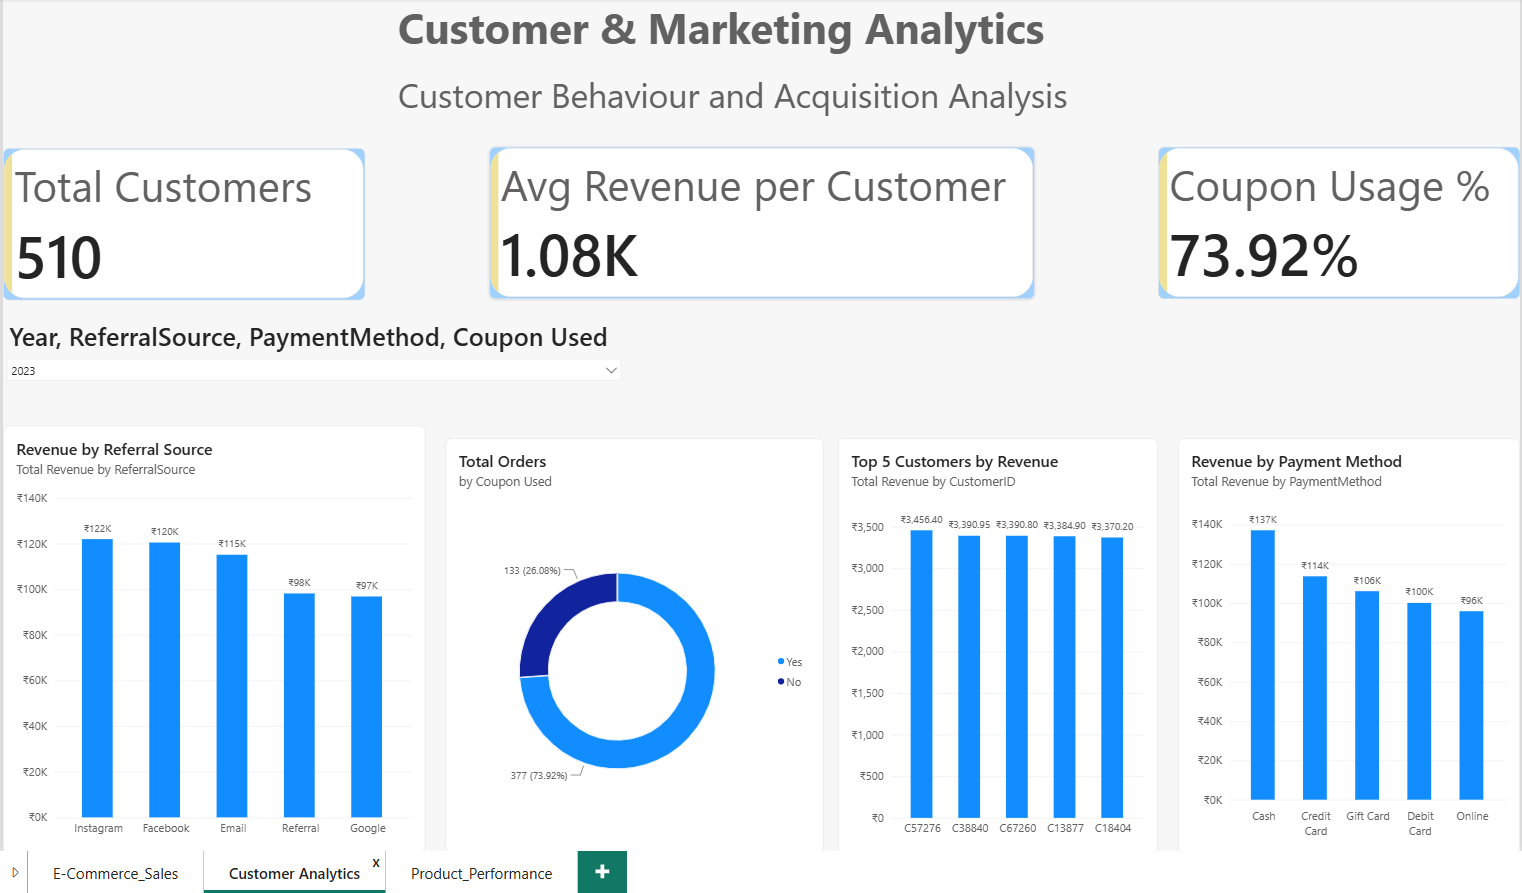

This screenshot's page, from the dashboard's own definition file:
{"tool":"powerbi","page":{"name":"Customer Analytics","canvas":[1920,1080],"ordinal":1},"visuals":[{"type":"textbox","box":[499.9,0,865.7,93.1],"z":0},{"type":"textbox","box":[499.9,93.1,865.7,95.2],"z":1000},{"type":"cardVisual","fields":{"Data":["Cleaned_dataset.Total Customers"]},"box":[0,190.4,458.8,192.6],"z":2000},{"type":"cardVisual","fields":{"Data":["Cleaned_dataset.Avg Revenue per Customer"]},"box":[614.6,188.3,690.4,192.6],"z":3000},{"type":"clusteredColumnChart","title":"Revenue by Referral Source","fields":{"Category":["Cleaned_dataset.ReferralSource"],"Y":["Cleaned_dataset.Total Revenue"]},"box":[0,541,534.5,541],"z":4000},{"type":"donutChart","fields":{"Category":["Cleaned_dataset.Coupon Used"],"Y":["Cleaned_dataset.Total Orders"]},"box":[560.5,556.2,478.3,525.9],"z":5000},{"type":"columnChart","title":"Top 5 Customers by Revenue","fields":{"Category":["Cleaned_dataset.CustomerID"],"Y":["Cleaned_dataset.Total Revenue"]},"box":[1056.1,556.2,404.7,525.9],"z":6000},{"type":"clusteredColumnChart","title":"Revenue by Payment Method","fields":{"Category":["Cleaned_dataset.PaymentMethod"],"Y":["Cleaned_dataset.Total Revenue"]},"box":[1486.8,556.2,432.8,525.9],"z":7000},{"type":"slicer","fields":{"Values":["Cleaned_dataset.Date.Variation.Date Hierarchy.Year","Cleaned_dataset.ReferralSource","Cleaned_dataset.PaymentMethod","Cleaned_dataset.Coupon Used"]},"box":[0,406.9,787.7,95.2],"z":8000},{"type":"cardVisual","fields":{"Data":["Cleaned_dataset.Coupon Usage %"]},"box":[1460.8,188.3,458.8,192.6],"z":9000}]}

Visuals, with their boxes on the page's 1920x1080 design canvas (x1, y1, x2, y2). These are canvas units, not pixel positions in the 1522x893 screenshot, which may show the page scaled, cropped or inside an application window:
textbox: [x1=500, y1=0, x2=1366, y2=93]
textbox: [x1=500, y1=93, x2=1366, y2=188]
cardVisual - Cleaned_dataset.Total Customers: [x1=0, y1=190, x2=459, y2=383]
cardVisual - Cleaned_dataset.Avg Revenue per Customer: [x1=615, y1=188, x2=1305, y2=381]
"Revenue by Referral Source" clusteredColumnChart: [x1=0, y1=541, x2=534, y2=1082]
donutChart - Cleaned_dataset.Coupon Used x Cleaned_dataset.Total Orders: [x1=560, y1=556, x2=1039, y2=1082]
"Top 5 Customers by Revenue" columnChart: [x1=1056, y1=556, x2=1461, y2=1082]
"Revenue by Payment Method" clusteredColumnChart: [x1=1487, y1=556, x2=1920, y2=1082]
slicer - Cleaned_dataset.Date.Variation.Date Hierarchy.Year x Cleaned_dataset.ReferralSource: [x1=0, y1=407, x2=788, y2=502]
cardVisual - Cleaned_dataset.Coupon Usage %: [x1=1461, y1=188, x2=1920, y2=381]
